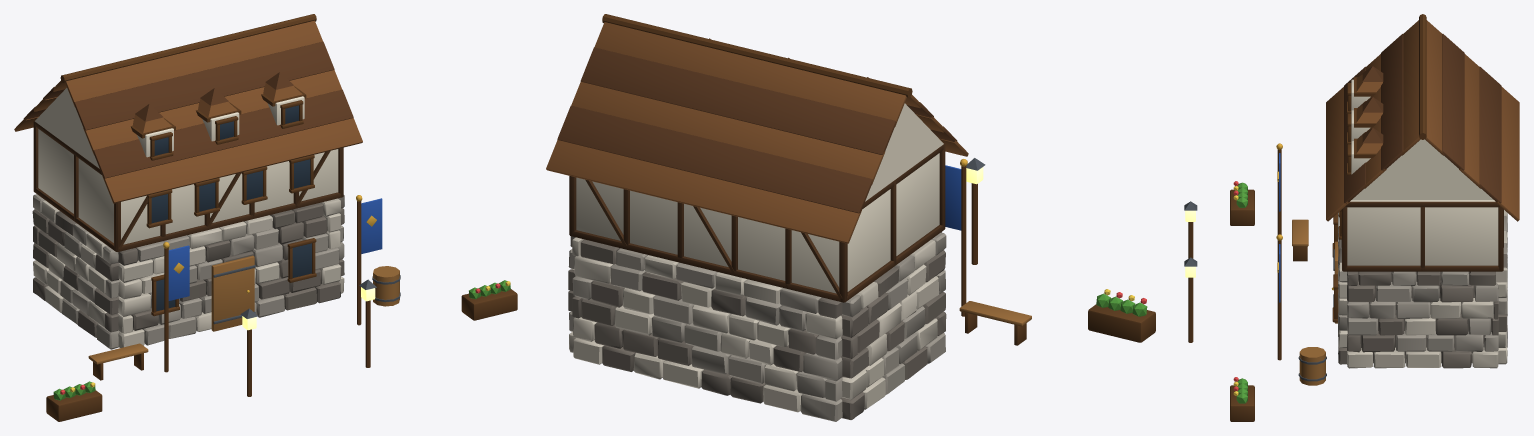
File: budynek_glowny_poz11.glb
3 renders of one model, left to right at view 1: azimuth 30°, elevation 25°; view 2: azimuth 150°, elevation 25°; view 3: azimuth 270°, elevation 25°, orthographic. The views are drawn at different scales.
Visible parts, largest first — view 1: budynek_glowny_poz11; view 2: budynek_glowny_poz11; view 3: budynek_glowny_poz11.
Boxes of the visible parts, box(x1,y1,x2,y2) form: budynek_glowny_poz11: box(14, 14, 517, 421); budynek_glowny_poz11: box(546, 14, 1155, 421); budynek_glowny_poz11: box(1184, 14, 1519, 421).
Bounding box in the file's own units: 12.4 × 6.42 × 8.11.
